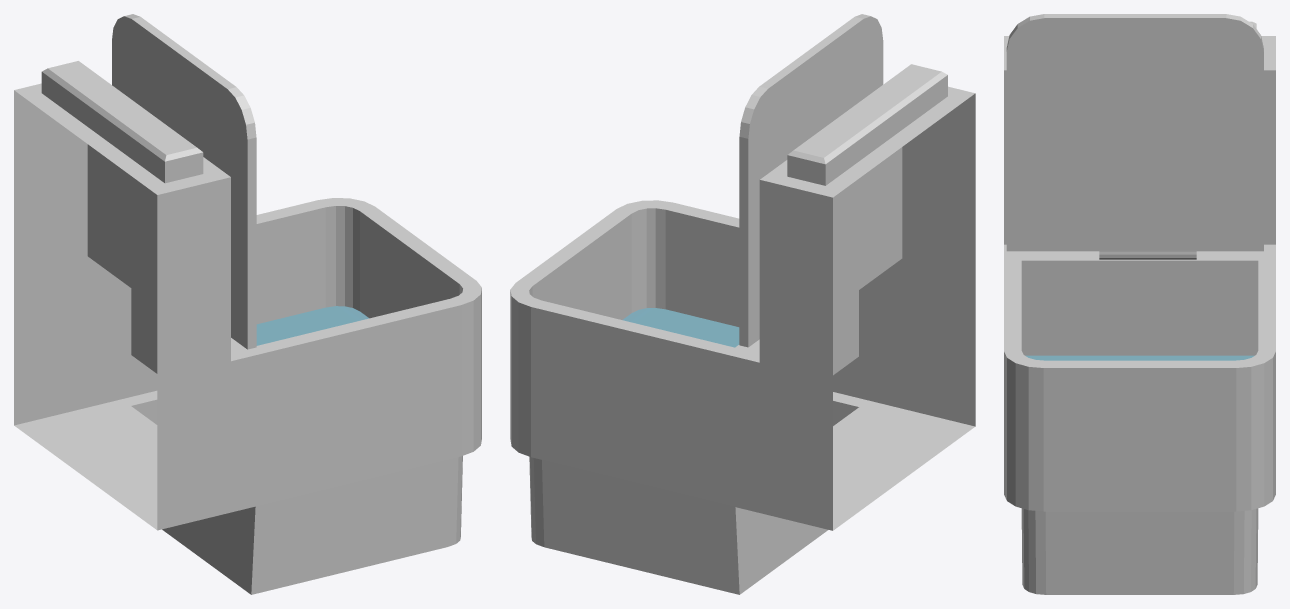
Rendered from Toilet(Textured).fbx.
3 renders of one model, left to right at view 1: azimuth 30°, elevation 25°; view 2: azimuth 150°, elevation 25°; view 3: azimuth 270°, elevation 25°, orthographic. The views are drawn at different scales.
Visible parts, largest first — view 1: Cube, Lid, Water; view 2: Cube, Lid, Water; view 3: Cube, Lid, Water, Lid's Pivot.
Part boxes in pixels (x1,y1,x2,y2): Cube: (14, 61, 481, 594); Lid: (112, 14, 256, 349); Water: (256, 306, 369, 345); Cube: (510, 64, 975, 594); Lid: (739, 14, 883, 347); Water: (622, 308, 739, 347); Cube: (1004, 21, 1275, 594); Lid: (1006, 14, 1263, 251); Water: (1025, 355, 1254, 360); Lid's Pivot: (1099, 250, 1196, 259).
Bounding box in the file's own units: 472 × 662 × 344.
